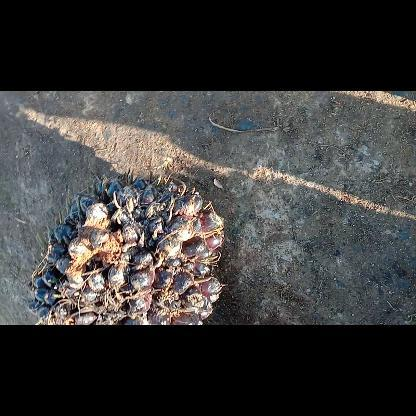TBS mentah: (26, 174, 231, 324)
